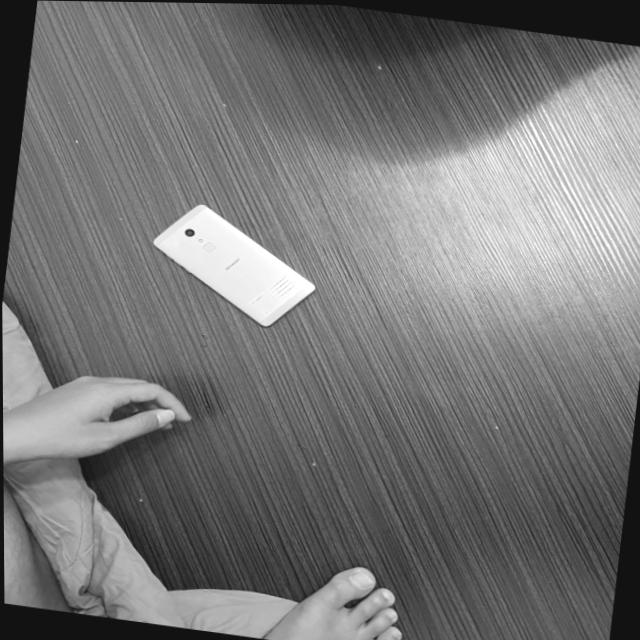Smartphone: (128, 194, 338, 341)
